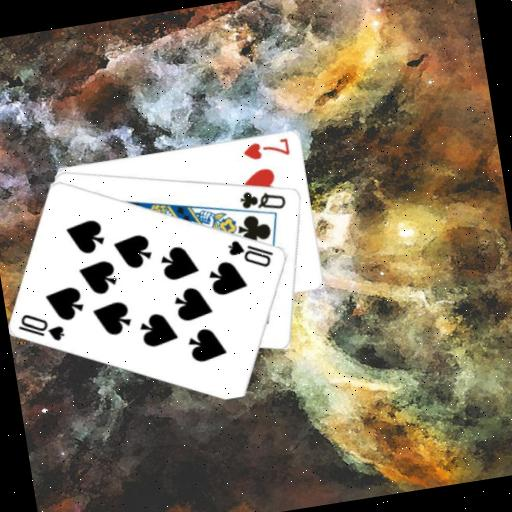10S: (13, 304, 68, 348), (223, 231, 277, 275)
7H: (239, 134, 292, 163)
QC: (234, 182, 288, 216)
